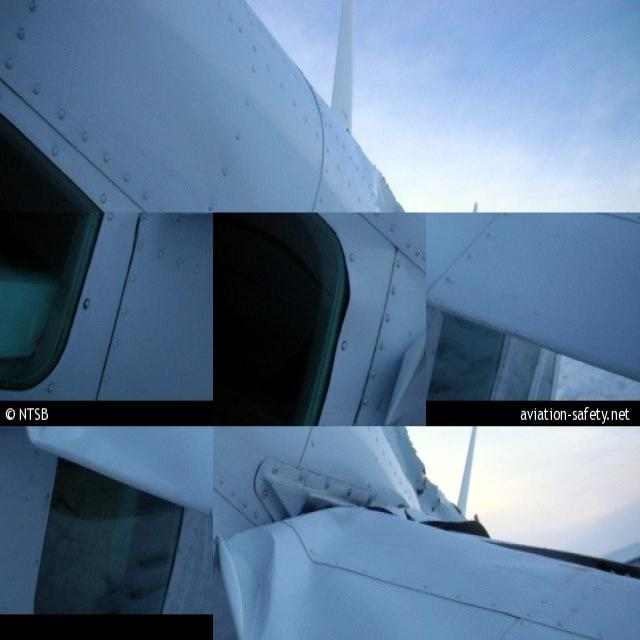dent: (214, 526, 282, 640)
